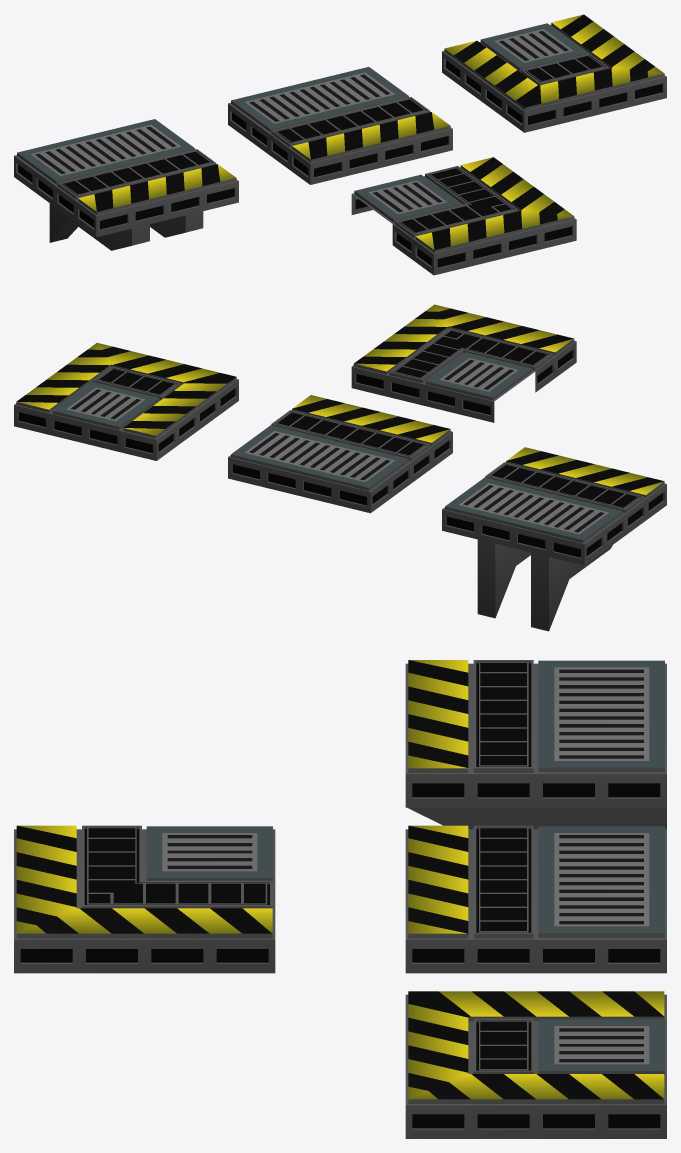
File: PisoBorde.fbx
3 views of the same model, one above another, from view 1: azimuth 30°, elevation 25°; view 2: azimuth 150°, elevation 25°; view 3: azimuth 270°, elevation 25° (orthographic). The views are drawn at different scales.
Visible parts, largest first — view 1: PisoBordeCaida01, PisoBordeCaida03, PisoBordeCaida02, PisoBordeCaida04; view 2: PisoBordeCaida01, PisoBordeCaida03, PisoBordeCaida02, PisoBordeCaida04; view 3: PisoBordeCaida01, PisoBordeCaida02, PisoBordeCaida04, PisoBordeCaida03.
Part boxes in pixels (x1,y1,x2,y2): PisoBordeCaida01: (14, 119, 238, 250); PisoBordeCaida03: (442, 14, 666, 132); PisoBordeCaida02: (228, 67, 452, 184); PisoBordeCaida04: (351, 157, 576, 275); PisoBordeCaida01: (442, 447, 666, 631); PisoBordeCaida03: (14, 343, 238, 460); PisoBordeCaida02: (228, 395, 452, 513); PisoBordeCaida04: (351, 304, 576, 422); PisoBordeCaida01: (405, 660, 666, 829); PisoBordeCaida02: (405, 825, 666, 973); PisoBordeCaida04: (14, 825, 275, 973); PisoBordeCaida03: (405, 991, 666, 1138).
Bounding box in the file's own units: 157 × 26.09 × 98.43.
Materials: 3 (2 with a texture image).
